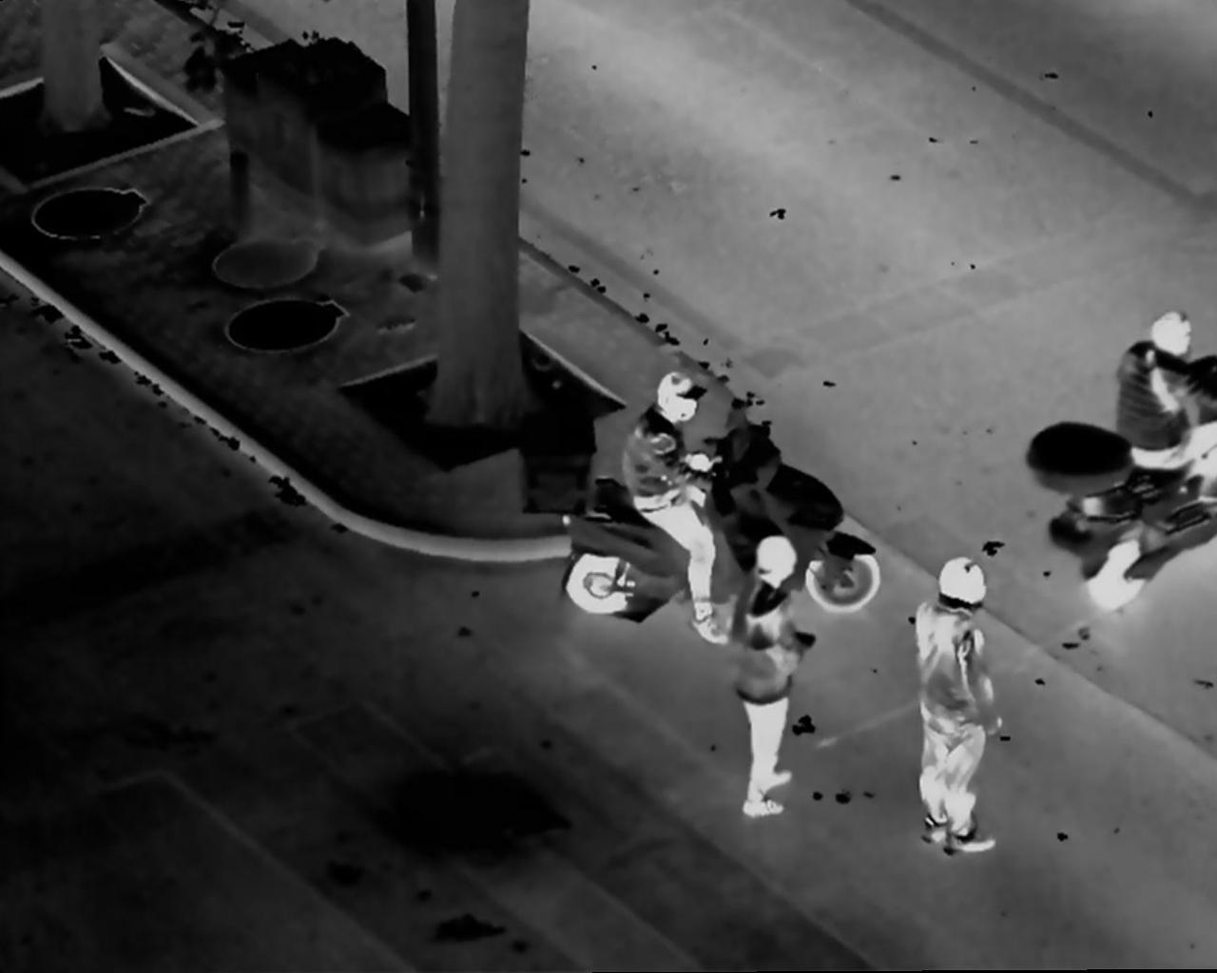person: (623, 367, 720, 648), (917, 548, 1002, 863), (728, 533, 818, 822), (1109, 310, 1217, 515)
